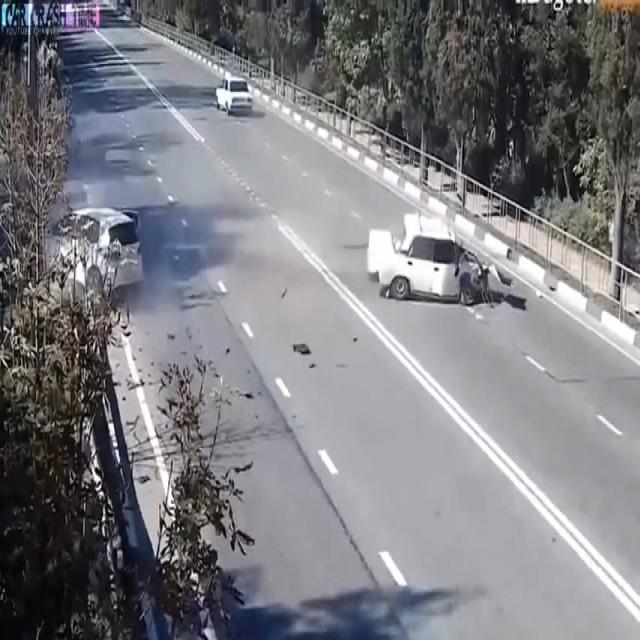Accident: (350, 162, 514, 368), (29, 151, 181, 366)
